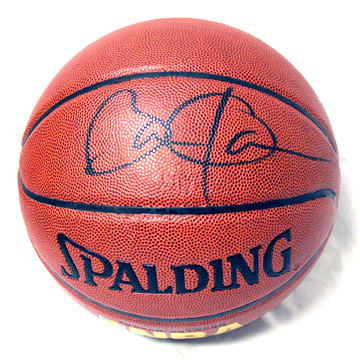basketball: (17, 17, 342, 341)
